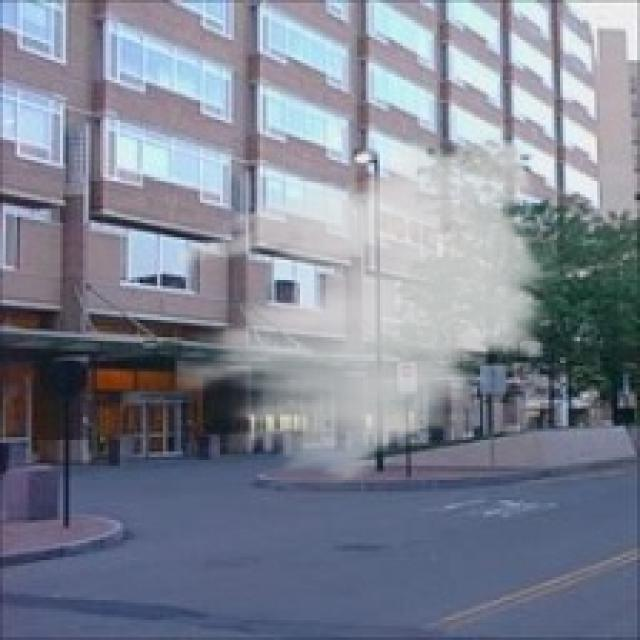Smoke: (174, 114, 563, 492)
